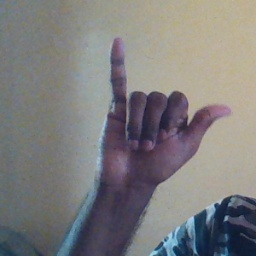J: (101, 38, 231, 188)
